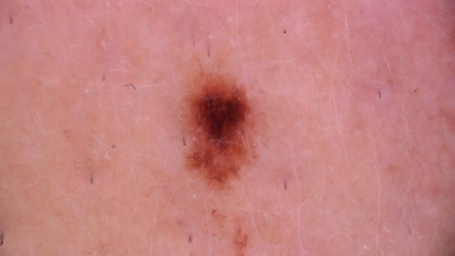melanoma: (186, 79, 248, 186)
